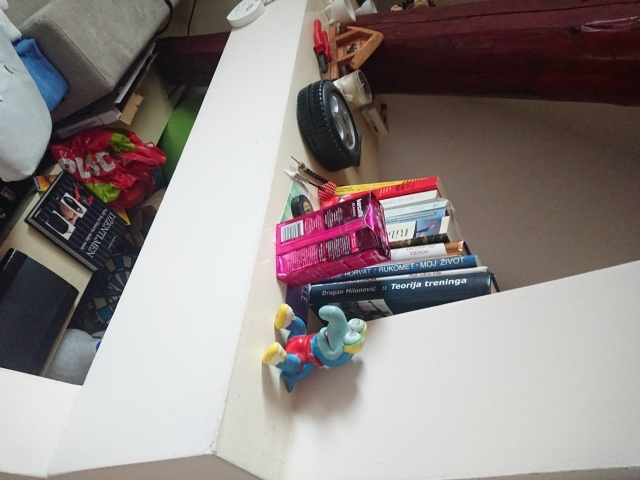Barcaffe Classic Original 225g: (273, 190, 393, 289)
